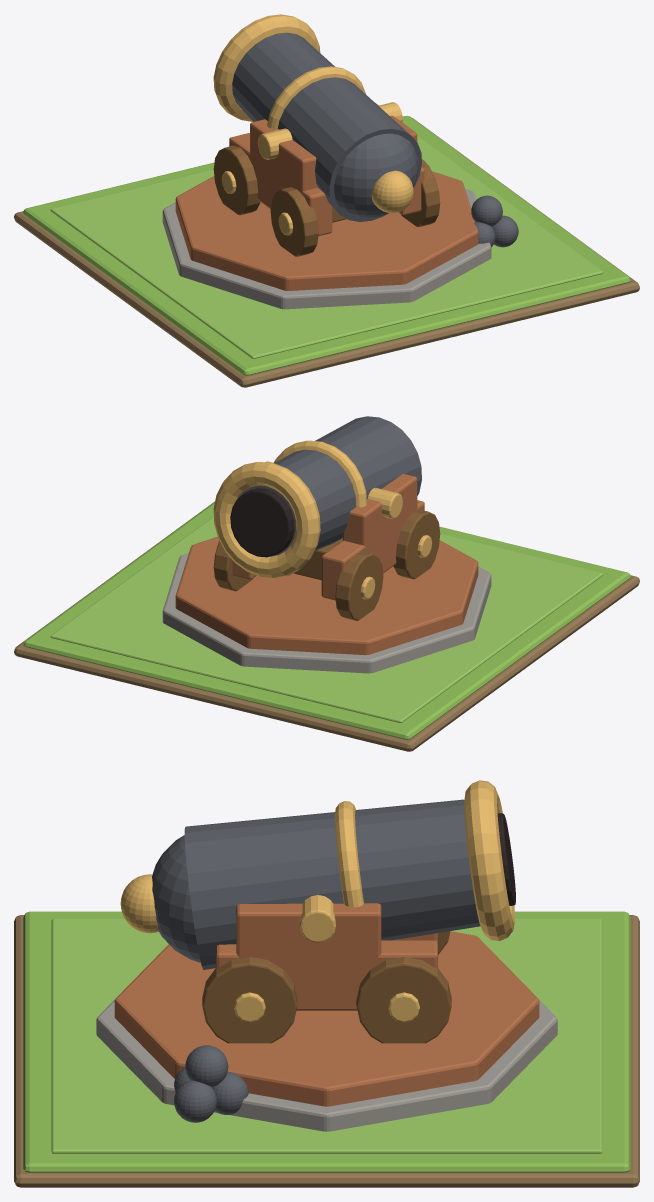
The model's file is cannon_lv2.glb.
3 renders of one model, top to bottom at view 1: azimuth 30°, elevation 25°; view 2: azimuth 150°, elevation 25°; view 3: azimuth 270°, elevation 25°, orthographic. The views are drawn at different scales.
Parts seen in each view (by area): view 1: Base_Inner, TurntableWood, Base_Grass, CannonBarrel, Base_Dirt, TurntableStone, CannonBreech, MuzzleLip, CannonWheel_-1_-1, CarriageUpper_-1, CannonWheel_-1_1, CarriageLower_-1 (+6 smaller); view 2: Base_Inner, TurntableWood, Base_Grass, CannonBarrel, Base_Dirt, TurntableStone, MuzzleLip, BarrelBore, CarriageUpper_-1, CannonWheel_-1_1, CarriageLower_-1, CannonWheel_-1_-1 (+4 smaller); view 3: Base_Inner, TurntableWood, CannonBarrel, Base_Grass, Base_Dirt, TurntableStone, CarriageUpper_1, CannonWheel_1_1, CannonWheel_1_-1, CarriageLower_1, MuzzleLip, CannonBreech (+9 smaller).
Boxes of the visible parts, x1,y1,x2,y2 form: Base_Inner: (50, 135, 603, 358); TurntableWood: (175, 171, 478, 290); Base_Grass: (23, 116, 630, 375); CannonBarrel: (232, 33, 421, 221); Base_Dirt: (14, 118, 639, 387); TurntableStone: (162, 189, 491, 309); CannonBreech: (334, 133, 418, 218); MuzzleLip: (213, 14, 320, 121); CannonWheel_-1_-1: (270, 187, 318, 256); CarriageUpper_-1: (250, 119, 317, 192); CannonWheel_-1_1: (213, 145, 260, 215); CarriageLower_-1: (229, 133, 332, 236); Base_Inner: (50, 516, 603, 722); TurntableWood: (175, 537, 478, 655); Base_Grass: (23, 502, 630, 739); CannonBarrel: (238, 416, 421, 556); Base_Dirt: (14, 501, 639, 751); TurntableStone: (162, 553, 491, 673); MuzzleLip: (213, 462, 320, 578); BarrelBore: (230, 488, 294, 557); CarriageUpper_-1: (342, 474, 417, 546); CannonWheel_-1_1: (335, 551, 383, 620); CarriageLower_-1: (321, 500, 424, 600); CannonWheel_-1_-1: (393, 509, 440, 579); Base_Inner: (51, 919, 602, 1153); TurntableWood: (114, 931, 539, 1106); CannonBarrel: (184, 799, 480, 969); Base_Grass: (23, 911, 630, 1172); Base_Dirt: (14, 915, 639, 1187); TurntableStone: (96, 974, 557, 1131); CarriageUpper_1: (236, 903, 381, 958); CannonWheel_1_1: (356, 956, 451, 1043); CannonWheel_1_-1: (202, 957, 297, 1043); CarriageLower_1: (216, 940, 437, 1010); MuzzleLip: (464, 780, 514, 940); CannonBreech: (152, 835, 200, 962).
Bounding box in the file's own units: 2.76 × 1.31 × 2.76.
